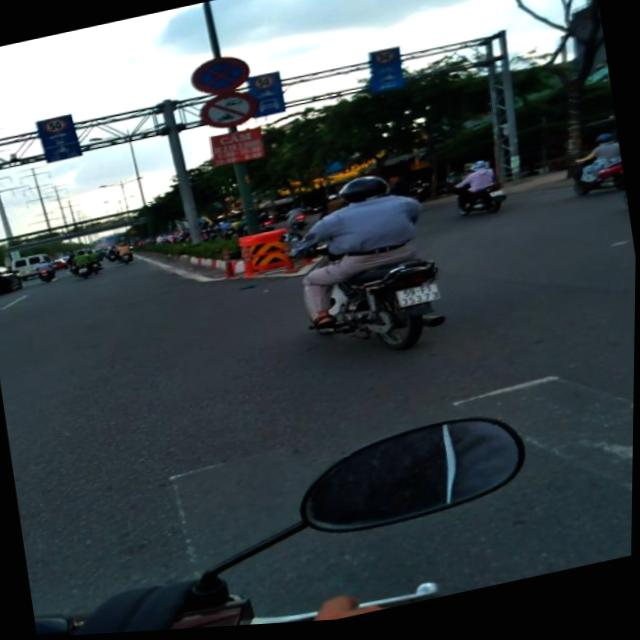Cam dung xe va do xe: (188, 54, 253, 104)
Toc do toi da cho phep: (43, 117, 69, 136), (251, 77, 277, 96), (372, 53, 396, 71)
